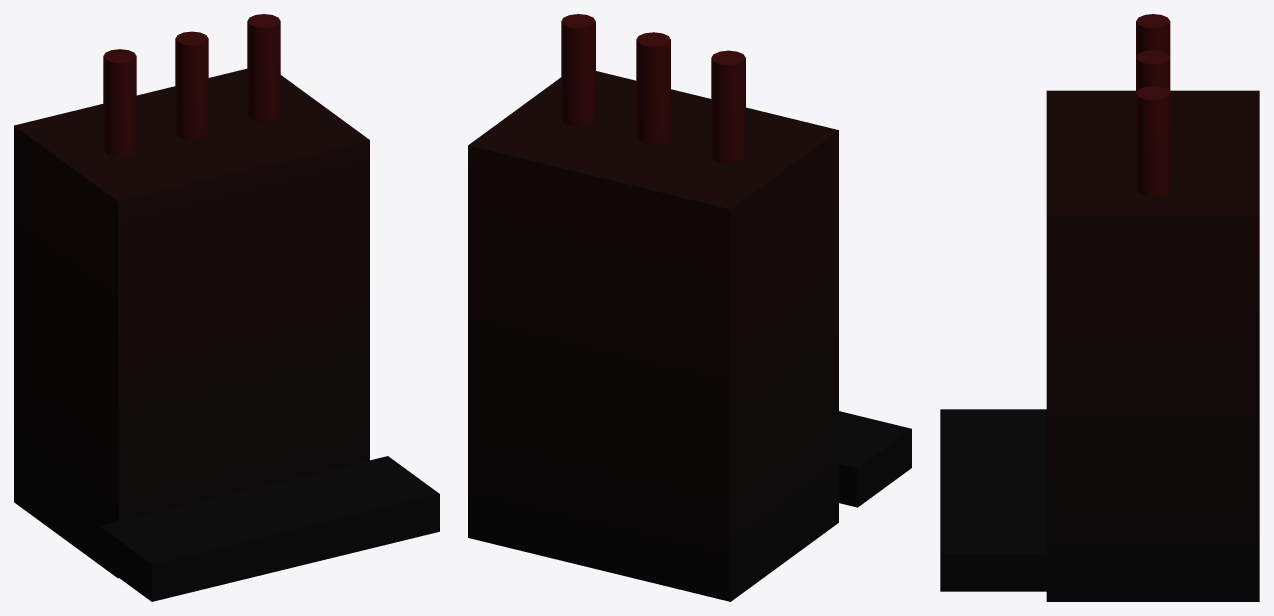
Rendered from may_bien_ap.mid.glb.
3 views of the same model, side by side, from view 1: azimuth 30°, elevation 25°; view 2: azimuth 150°, elevation 25°; view 3: azimuth 270°, elevation 25° (orthographic). The views are drawn at different scales.
Parts seen in each view (by area): view 1: may_bien_ap; view 2: may_bien_ap; view 3: may_bien_ap.
Boxes of the visible parts, box(x1,y1,x2,y2) form: may_bien_ap: box(14, 14, 439, 601); may_bien_ap: box(468, 14, 911, 601); may_bien_ap: box(940, 14, 1259, 601).
Size of the model in its own units: 0.8 by 1.25 by 0.75.
